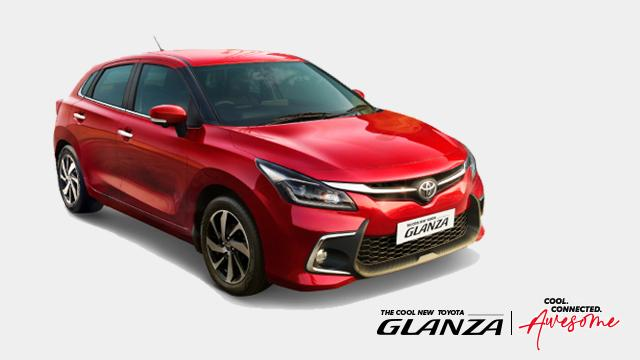toyota: (52, 37, 484, 296)
